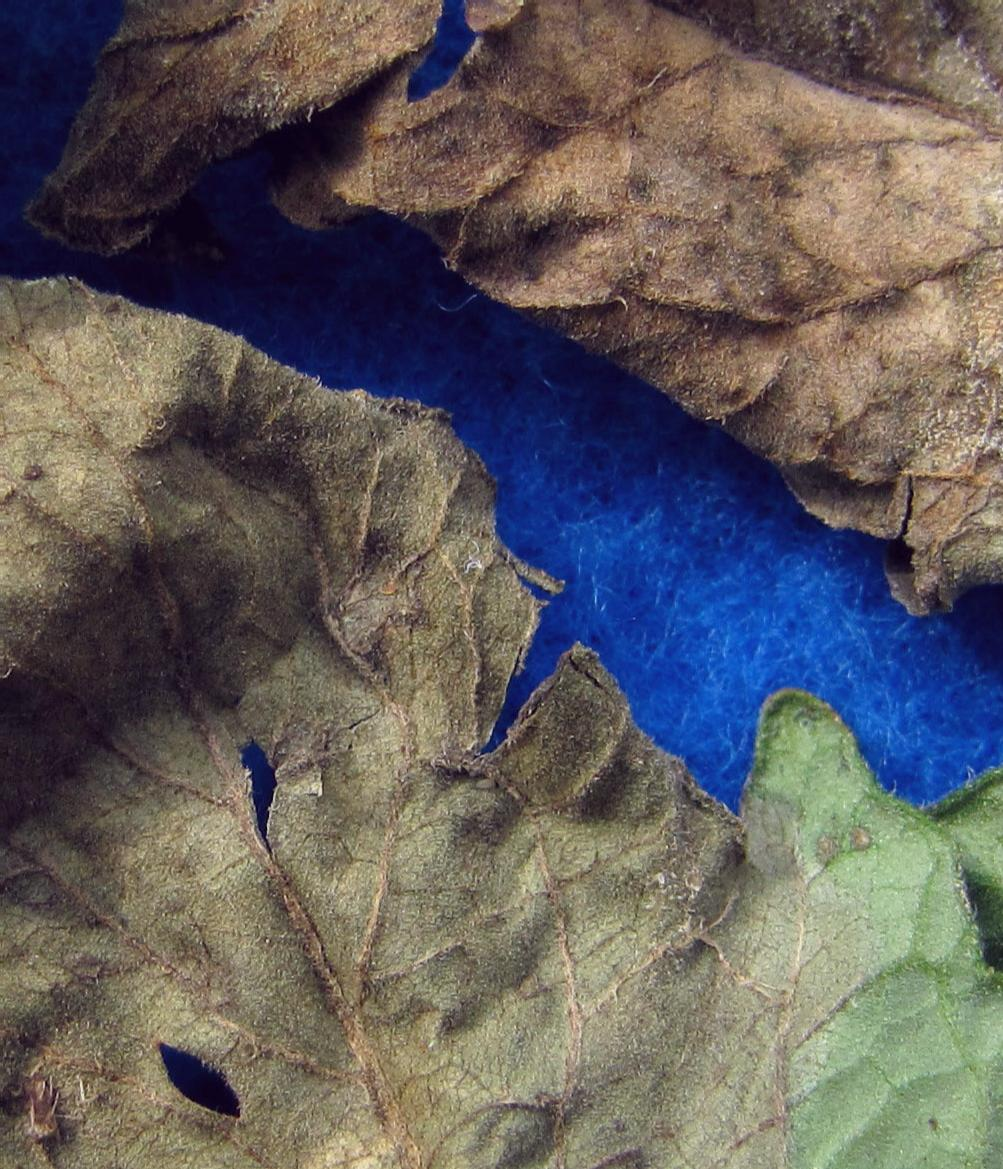Tomato leaf late blight: (126, 0, 1003, 1169), (0, 262, 1003, 1169)
